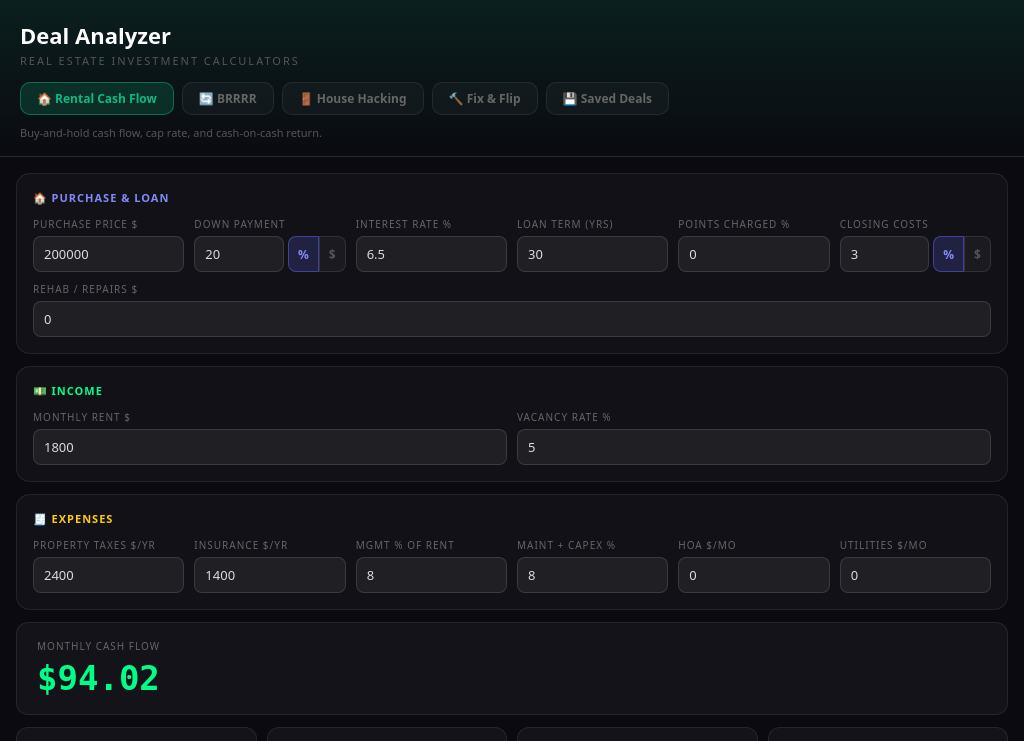
Test: fix & flip tab shows the calculator with computed outputs
Click the button "🔨 Fix & Flip": (485, 98) x1=432 y1=82 x2=538 y2=115
(page scrolled)
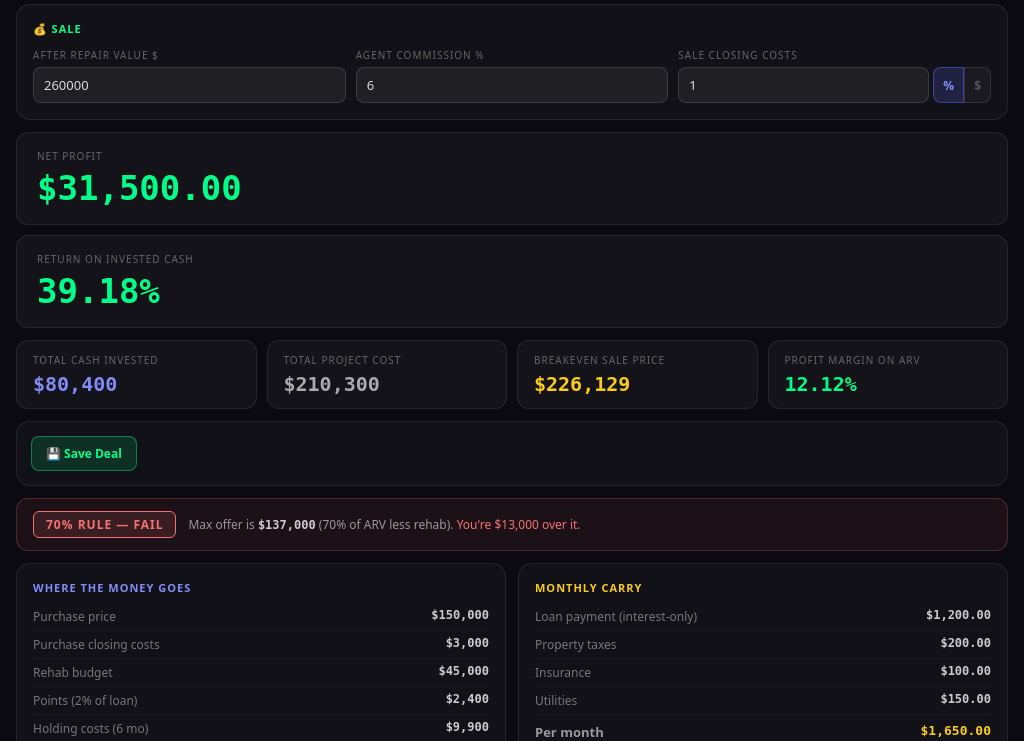
Check: the text "Net Profit" is shown, box x1=37 y1=149 x2=102 y2=163
Check: the text "Return on Invested Cash" is shown, box x1=37 y1=252 x2=194 y2=266
Check: the text "Breakeven Sale Price" is shown, box x1=534 y1=353 x2=665 y2=367
